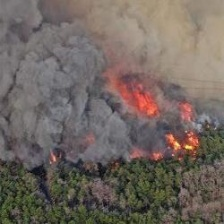fire: (121, 86, 214, 172)
smoke: (1, 3, 111, 163), (124, 3, 224, 76)
